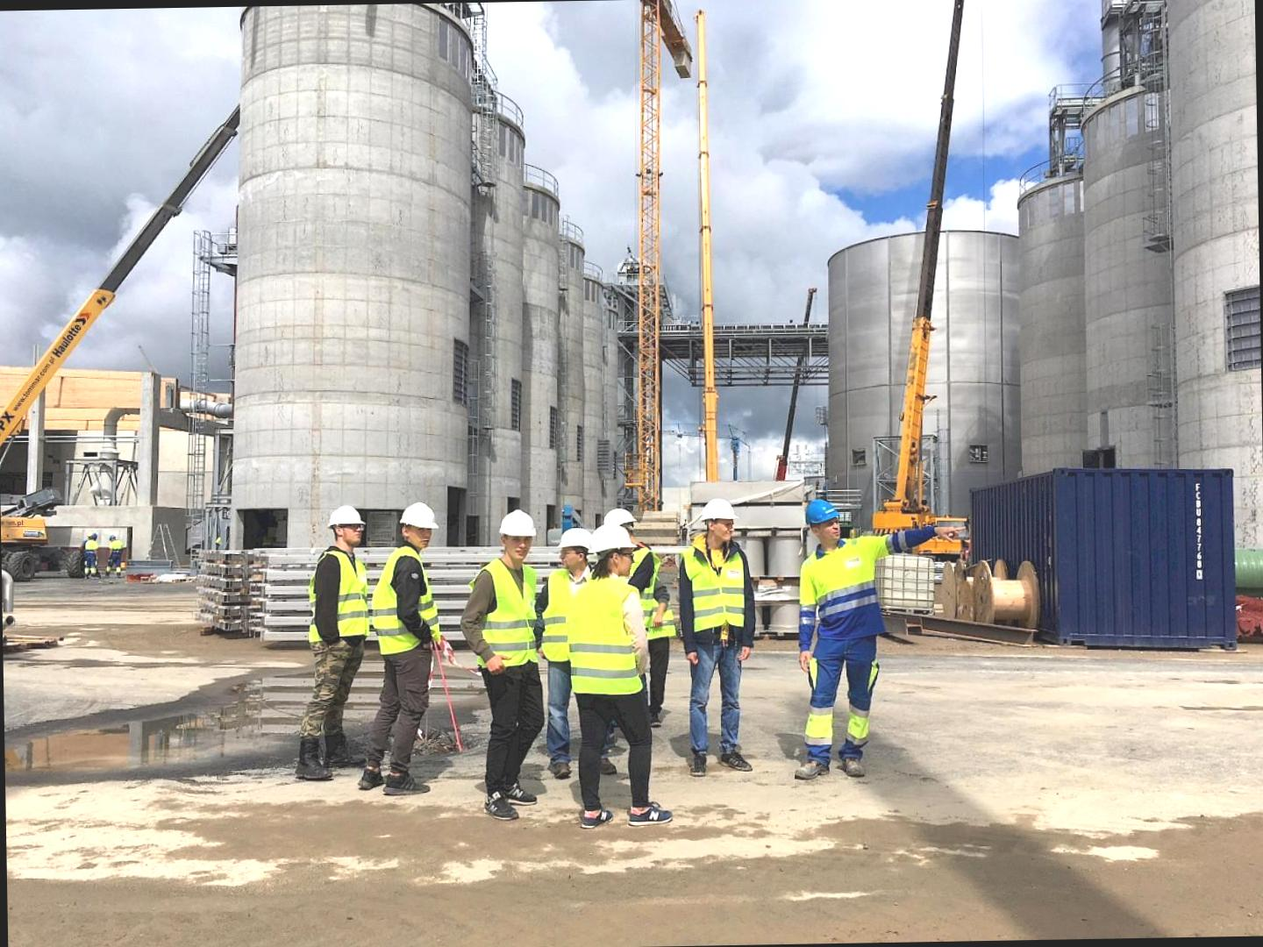helmet: (582, 523, 650, 557), (696, 497, 744, 530), (800, 496, 849, 528), (396, 498, 441, 532), (497, 509, 537, 545), (323, 502, 366, 535), (557, 527, 590, 554)
person: (572, 523, 677, 832), (795, 495, 892, 795), (464, 506, 551, 816), (368, 495, 448, 798), (676, 492, 760, 777), (293, 497, 371, 787), (539, 527, 592, 787)
